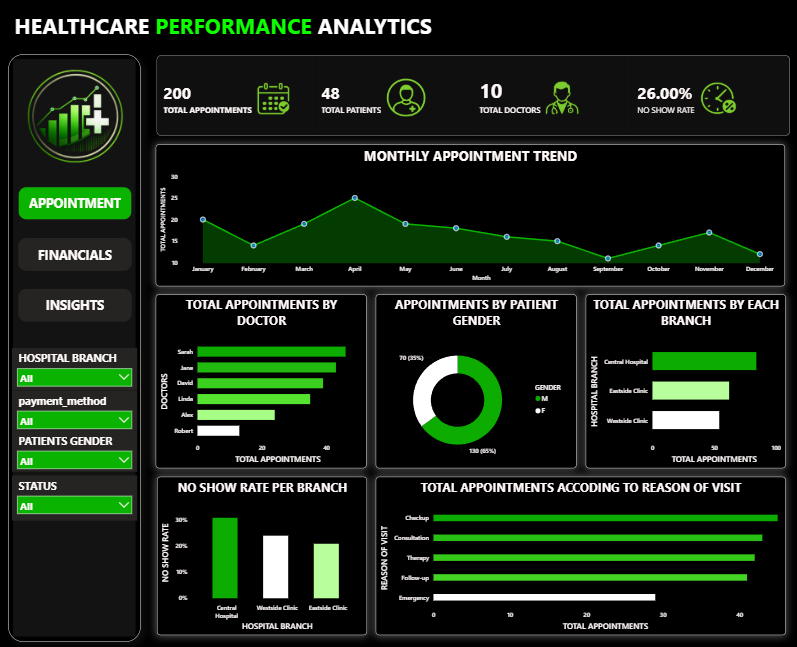

Layout of this report page (visuals, bound fields, positions):
{"tool":"powerbi","page":{"name":"APPOINTMENT ","canvas":[1600,1300],"ordinal":0},"visuals":[{"type":"barChart","title":"\tTOTAL APPOINTMENTS BY DOCTOR","fields":{"Category":["hospital_db doctors.first_name"],"Y":["CountNonNull(hospital_db appointments.appointment_id)"]},"box":[318.3,591.7,421.7,348.3],"z":0},{"type":"lineChart","title":"\tMONTHLY APPOINTMENT TREND","fields":{"Category":["hospital_db appointments.appointment_date.Variation.Date Hierarchy.Month"],"Y":["CountNonNull(hospital_db appointments.appointment_id)"]},"box":[318,292,1258,284],"z":1000},{"type":"donutChart","title":"APPOINTMENTS BY PATIENT GENDER","fields":{"Category":["hospital_db patients.gender"],"Y":["CountNonNull(hospital_db appointments.appointment_id)"]},"box":[756.7,591.7,401.7,348.3],"z":2000},{"type":"barChart","title":"TOTAL APPOINTMENTS ACCODING TO REASON OF VISIT","fields":{"Y":["CountNonNull(hospital_db appointments.appointment_id)"],"Category":["hospital_db appointments.reason_for_visit"]},"box":[756.7,956.7,820,316.7],"z":3000},{"type":"cardVisual","fields":{"Data":["Count(hospital_db appointments.appointment_id)","Count(hospital_db appointments.patient_id)","Count(hospital_db appointments.doctor_id)","hospital_db appointments.NO_SHOW_RATE"]},"box":[301.7,96.7,1300,195],"z":4000},{"type":"columnChart","title":"NO SHOW RATE PER BRANCH","fields":{"Category":["hospital_db doctors.hospital_branch"],"Y":["hospital_db appointments.NO_SHOW_RATE"]},"box":[320,956.7,420,316.7],"z":5000},{"type":"barChart","title":"TOTAL APPOINTMENTS BY EACH BRANCH","fields":{"Y":["CountNonNull(hospital_db appointments.appointment_id)"],"Category":["hospital_db doctors.hospital_branch"]},"box":[1176.7,591.7,400,348.3],"z":6000},{"type":"textbox","box":[30,20,1278,76],"z":7000},{"type":"shape","box":[23.3,111.7,265,1175],"z":8000},{"type":"image","box":[54,130,202,202],"z":9000},{"type":"pageNavigator","box":[42.5,377.5,227.5,272.5],"z":10000},{"type":"slicer","fields":{"Values":["hospital_db patients.insurance_provider"]},"box":[30,700,250,84],"z":11000},{"type":"slicer","fields":{"Values":["hospital_db billing.payment_method"]},"box":[30,784,250,80],"z":12000},{"type":"slicer","fields":{"Values":["hospital_db patients.gender"]},"box":[30,864,250,82],"z":13000},{"type":"slicer","title":"STATUS","fields":{"Values":["hospital_db billing.payment_status"]},"box":[30,956,250,90],"z":14000},{"type":"image","box":[514,100,72,206],"z":14001},{"type":"image","box":[770,150,96,100],"z":14002},{"type":"image","box":[1092,160,74,82],"z":14003},{"type":"image","box":[1404,150,74,100],"z":14004}]}

Visuals, with their boxes in screenshot pixels (x1, y1, x2, y2), scaled from the page's 1600x1300 canvas onto the 797x647 screenshot:
"	TOTAL APPOINTMENTS BY DOCTOR" barChart: detection(159, 294, 369, 468)
"	MONTHLY APPOINTMENT TREND" lineChart: detection(158, 145, 785, 287)
"APPOINTMENTS BY PATIENT GENDER" donutChart: detection(377, 294, 577, 468)
"TOTAL APPOINTMENTS ACCODING TO REASON OF VISIT" barChart: detection(377, 476, 785, 634)
cardVisual - Count(hospital_db appointments.appointment_id) x Count(hospital_db appointments.patient_id): detection(150, 48, 796, 145)
"NO SHOW RATE PER BRANCH" columnChart: detection(159, 476, 369, 634)
"TOTAL APPOINTMENTS BY EACH BRANCH" barChart: detection(586, 294, 785, 468)
textbox: detection(15, 10, 652, 48)
shape: detection(12, 56, 144, 640)
image: detection(27, 65, 128, 165)
pageNavigator: detection(21, 188, 134, 324)
slicer - hospital_db patients.insurance_provider: detection(15, 348, 139, 390)
slicer - hospital_db billing.payment_method: detection(15, 390, 139, 430)
slicer - hospital_db patients.gender: detection(15, 430, 139, 471)
"STATUS" slicer: detection(15, 476, 139, 521)
image: detection(256, 50, 292, 152)
image: detection(384, 75, 431, 124)
image: detection(544, 80, 581, 120)
image: detection(699, 75, 736, 124)
